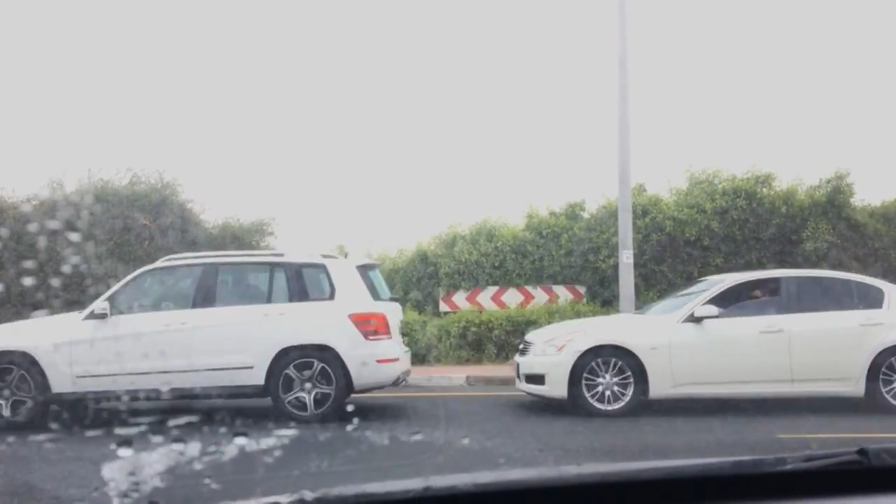car: (1, 247, 413, 433), (509, 265, 896, 414)
